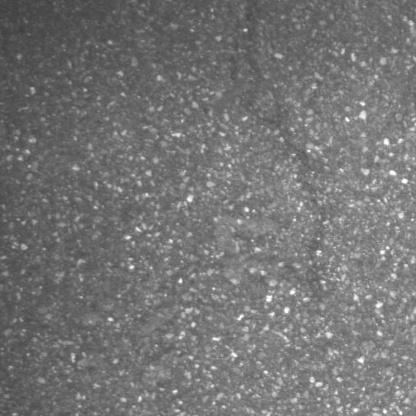Cracks: (241, 0, 338, 268)
